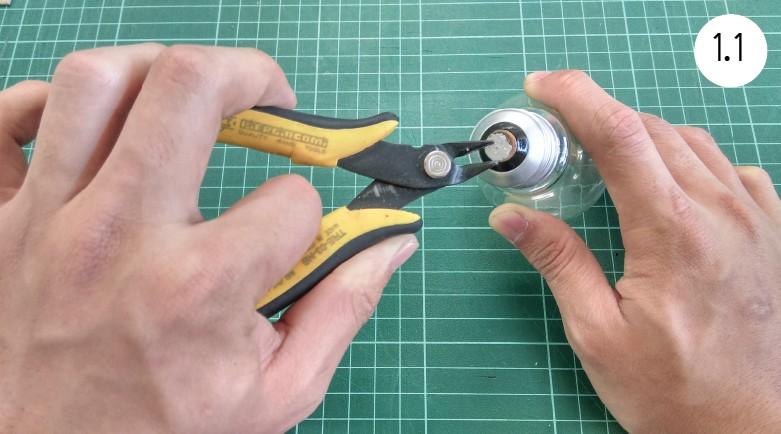Light_bulb: (467, 84, 614, 243)
